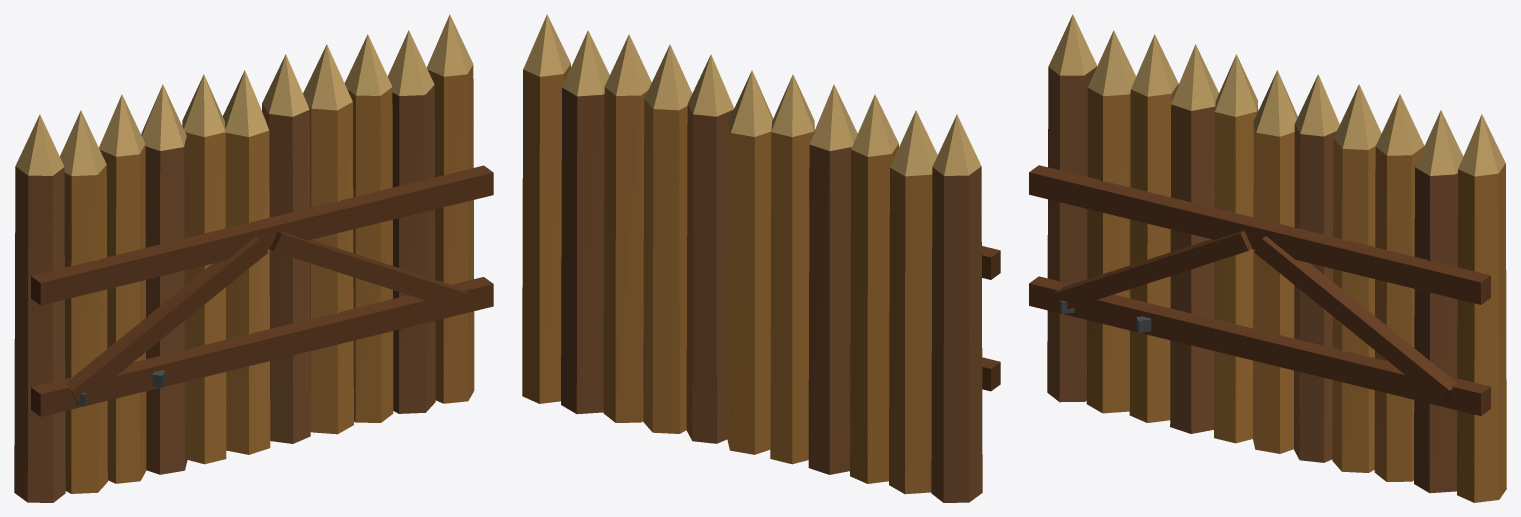
3 views of the same model, side by side, from view 1: azimuth 30°, elevation 25°; view 2: azimuth 150°, elevation 25°; view 3: azimuth 330°, elevation 25° (orthographic).
Visible parts, largest first — view 1: WK_W02_LOD1_Balanced; view 2: WK_W02_LOD1_Balanced; view 3: WK_W02_LOD1_Balanced.
Part boxes in pixels (x1,y1,x2,y2): WK_W02_LOD1_Balanced: (14,14,493,502); WK_W02_LOD1_Balanced: (522,14,1000,502); WK_W02_LOD1_Balanced: (1029,14,1506,502).
Bounding box in the file's own units: 4 × 3.2 × 0.65.
